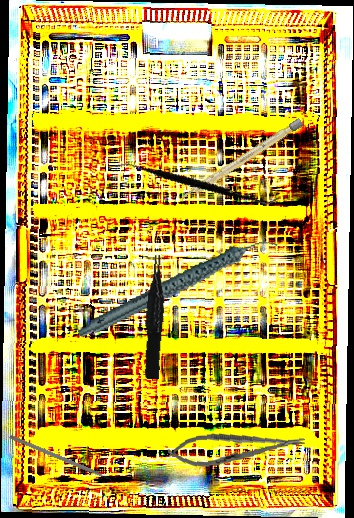Chopper: (6, 434, 119, 490)
Handpiece: (66, 235, 289, 339)
Needle Holder: (166, 425, 307, 471)
Scalpel Handle: (179, 117, 304, 204)
Spatula Surgical: (114, 118, 280, 246)
Tissue Forceps: (139, 254, 172, 380)
